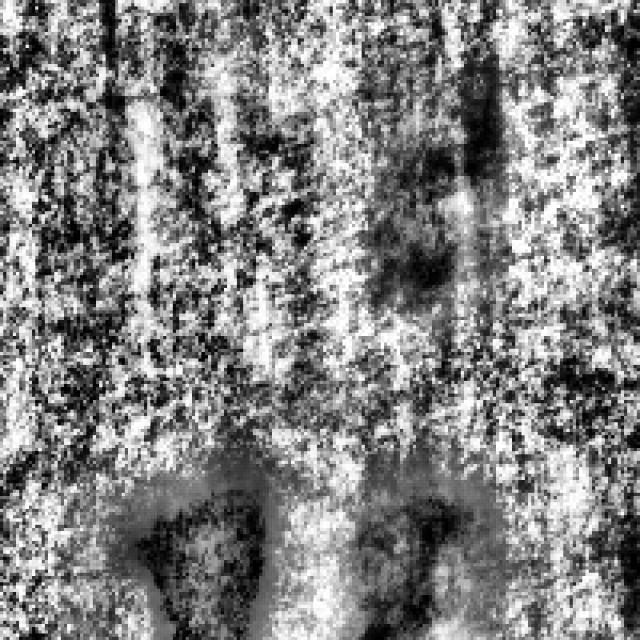Scratches: (122, 461, 276, 637), (346, 467, 492, 637)
